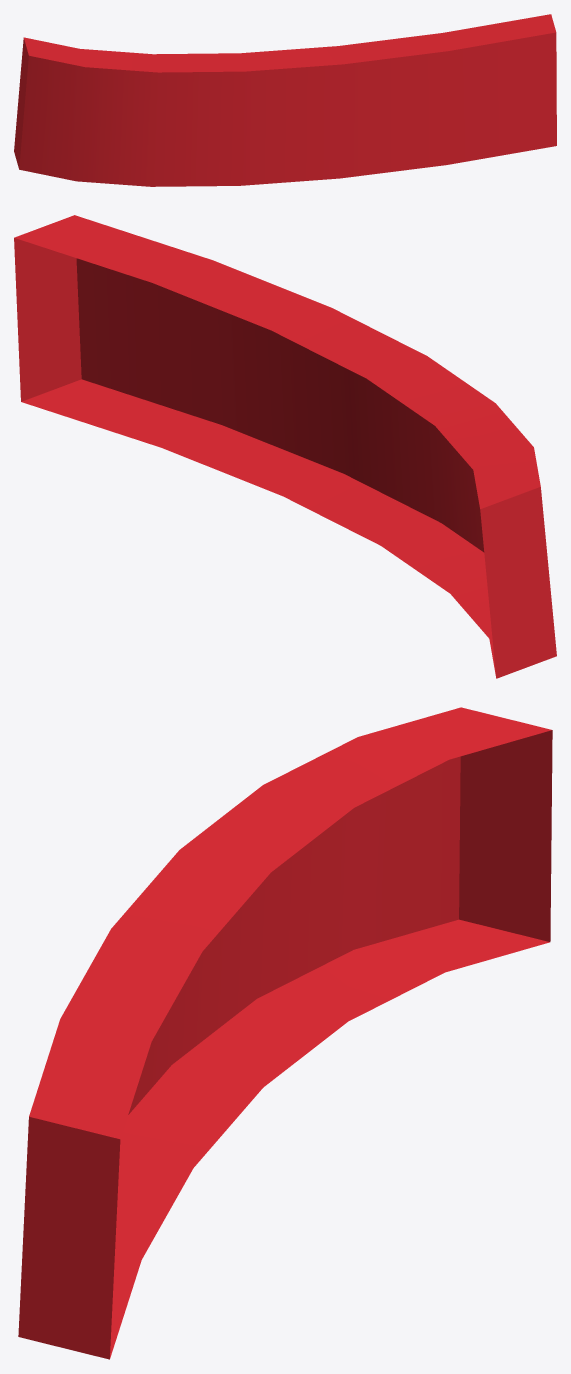
The model's file is hot indicator.fbx.
3 views of the same model, one above another, from view 1: azimuth 30°, elevation 25°; view 2: azimuth 150°, elevation 25°; view 3: azimuth 270°, elevation 25° (orthographic). The views are drawn at different scales.
Visible parts, largest first — view 1: hot indicator; view 2: hot indicator; view 3: hot indicator.
Part boxes in pixels (x1=…): hot indicator: x1=14, y1=14, x2=556, y2=186; hot indicator: x1=14, y1=215, x2=556, y2=678; hot indicator: x1=18, y1=707, x2=552, y2=1359.
Bounding box in the file's own units: 10.56 × 2.57 × 5.46.
